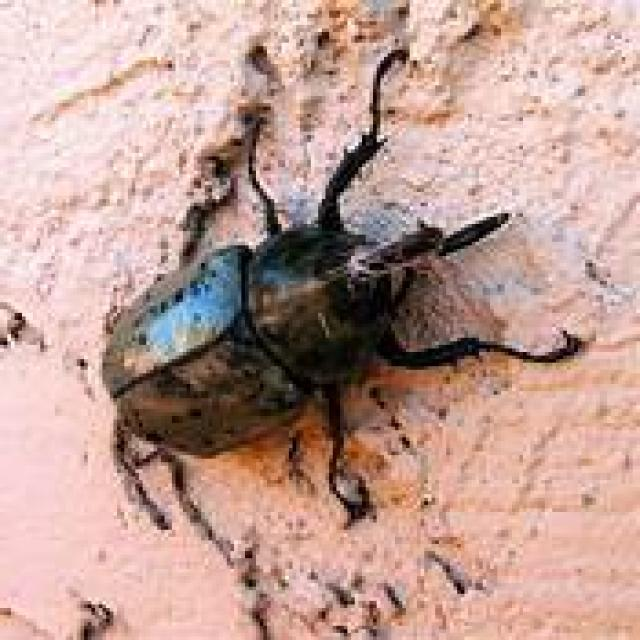Rhino-beetle: (63, 91, 570, 498)
